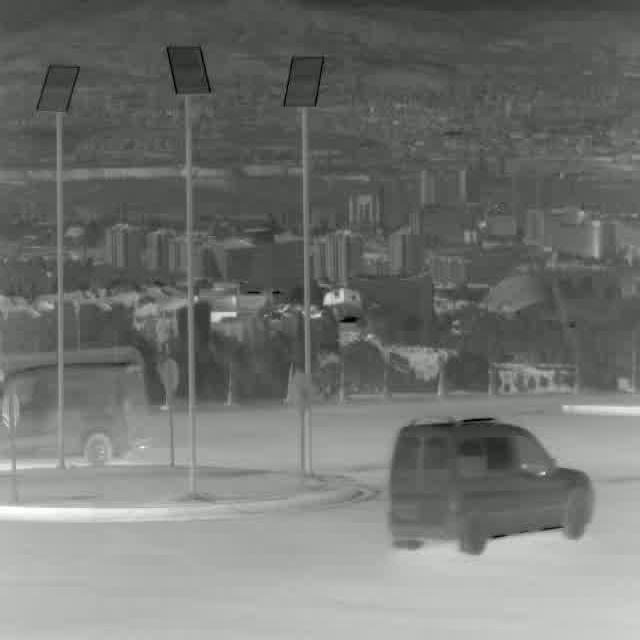Car: (391, 418, 593, 550), (0, 358, 151, 466)
